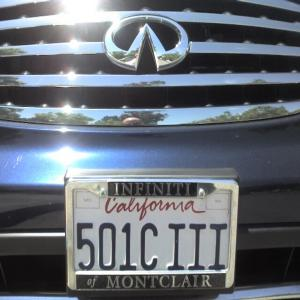Vehicle-registration-plate: (66, 176, 242, 290)
